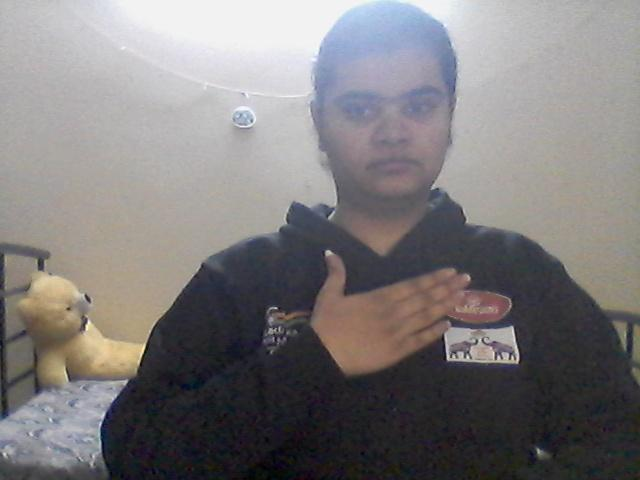please: (306, 238, 475, 376)
